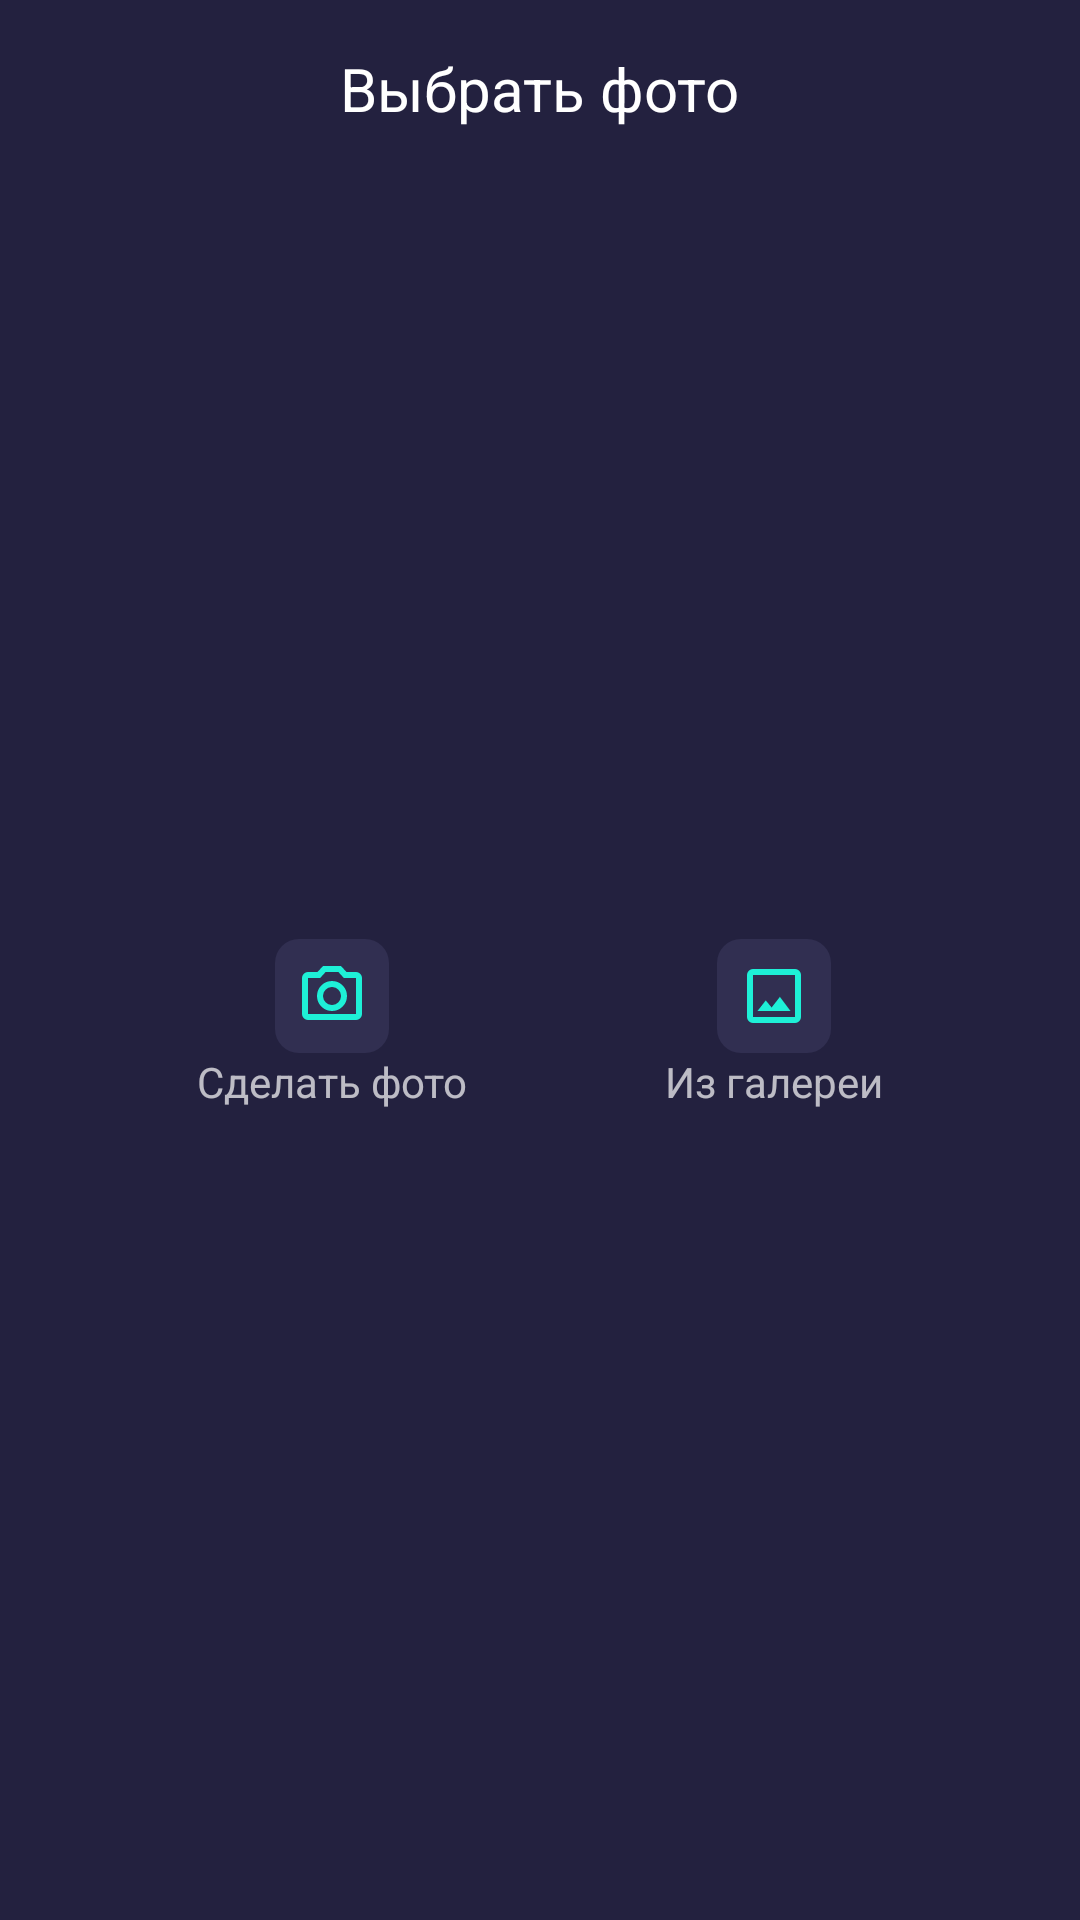

Locate icon controls on the screen. Image size 1080×1920, boxes as (x1, y1, x2, y2).
camera: (302, 966, 362, 1020)
